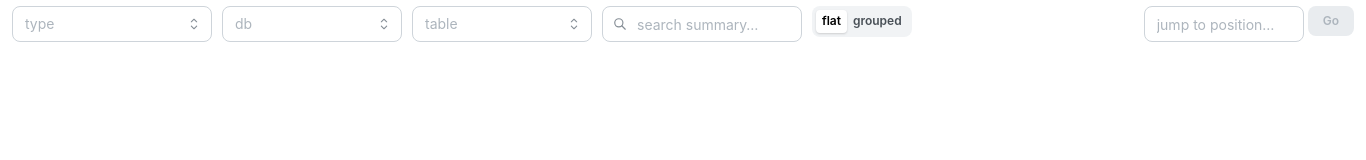
Test case: FilterBar › jump input: negative number shows error message
The width and height of the screenshot is (1366, 160).
Step 1. Type "-5" into the field named "jump to byte position" → (1224, 24), box [1144,6,1304,42]
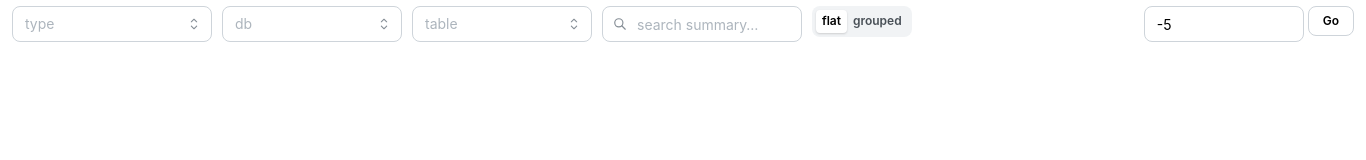
Step 2. Click the button with aria-label "go to position" → (1331, 21), box [1308,6,1354,36]
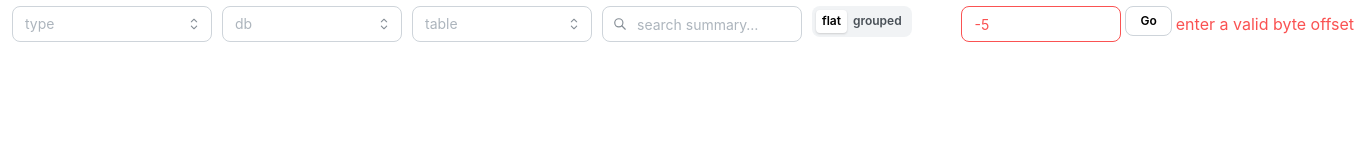
Now the message "enter a valid byte offset" is shown, box [1176,12,1354,36]
